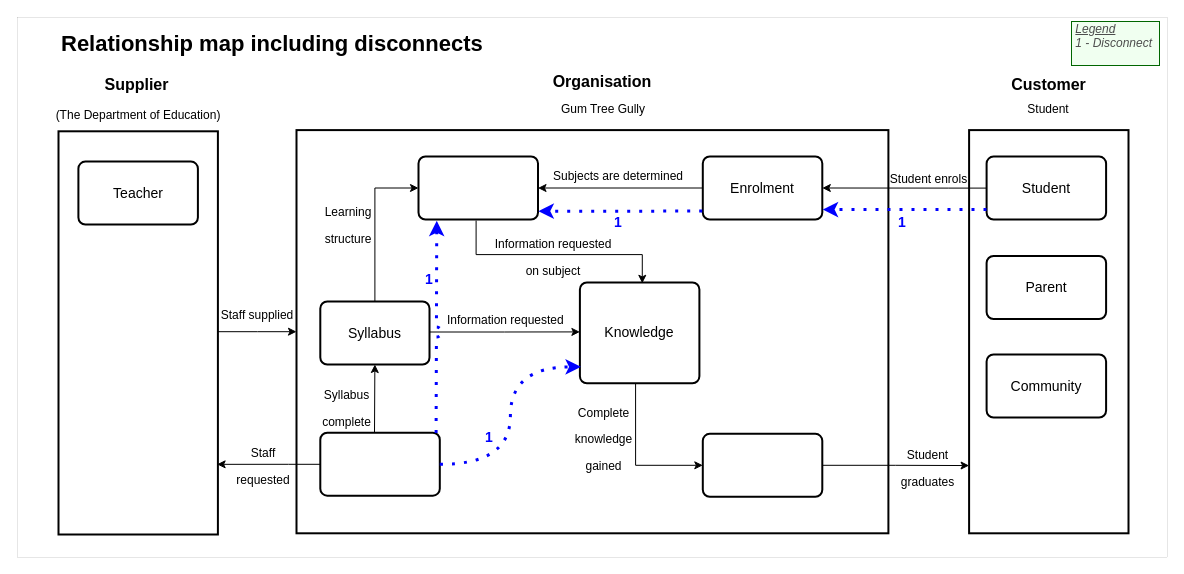
Some shapes in this 1184 by 574 pixel diagram are drawn without their labels. Here are the shapes that lost their labels. From the top down, the box of each, then its label:
(417, 155, 538, 220): Subject
(319, 431, 440, 496): Principal
(701, 432, 823, 497): Graduation
